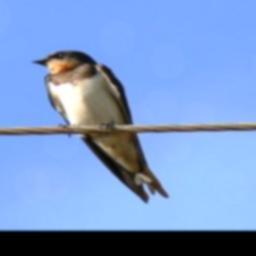Swallow: (29, 49, 170, 203)
